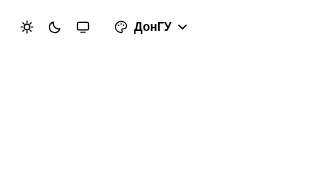
ThemeToggle + ThemeProvider › Escape закрывает меню без смены палитры
Step 1. Click the button with aria-label "Цветовая тема: ДонГУ" → (149, 27), box [104,12,194,42]
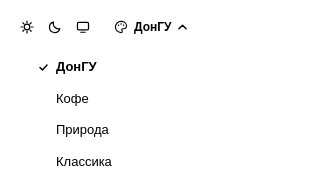
Step 2. Press Escape in the button with aria-label "Цветовая тема: ДонГУ", box [104,12,194,42]
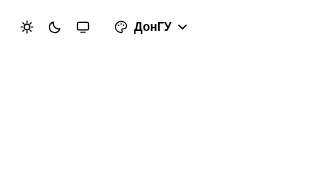
Now the list is gone
